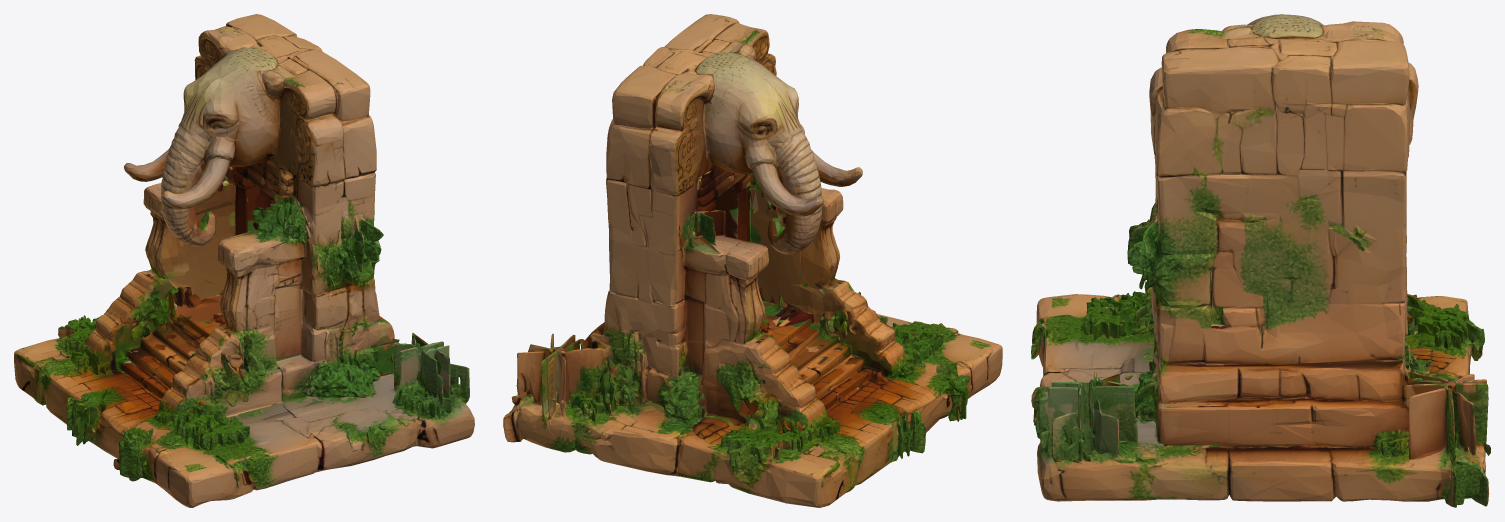
Rendered from elephant-motif-corbel-bracket-optimized (1).glb.
The picture shows the model from 3 angles, left to right: view 1: azimuth 30°, elevation 25°; view 2: azimuth 150°, elevation 25°; view 3: azimuth 270°, elevation 25°; orthographic projection. The views are drawn at different scales.
Parts seen in each view (by area): view 1: b2c64b77-28a2-4b36-9d7e-7e23e3d2ec18_texturing; view 2: b2c64b77-28a2-4b36-9d7e-7e23e3d2ec18_texturing; view 3: b2c64b77-28a2-4b36-9d7e-7e23e3d2ec18_texturing.
Part boxes in pixels (x1,y1,x2,y2): b2c64b77-28a2-4b36-9d7e-7e23e3d2ec18_texturing: (14, 14, 474, 507); b2c64b77-28a2-4b36-9d7e-7e23e3d2ec18_texturing: (503, 14, 1002, 507); b2c64b77-28a2-4b36-9d7e-7e23e3d2ec18_texturing: (1031, 14, 1490, 507).
Bounding box in the file's own units: 3.36 × 3.49 × 3.5.
1 material, 1 textured.
